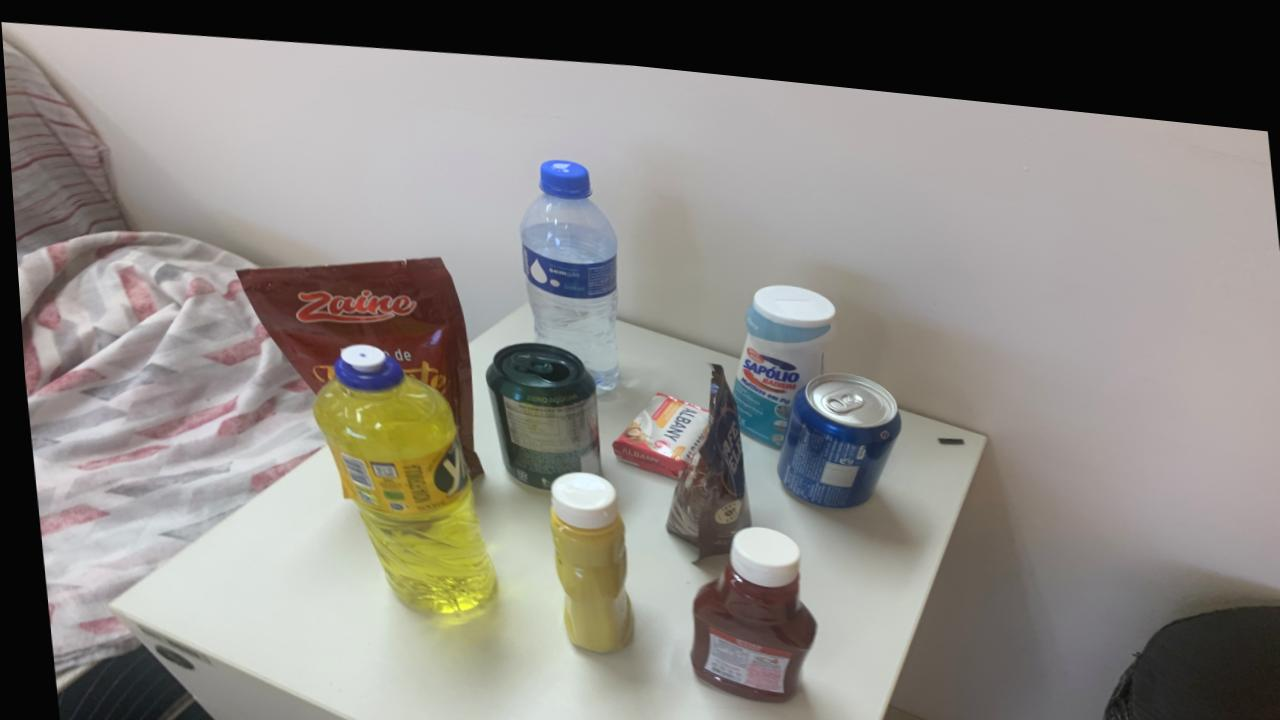Cleaner-Cleanup_Items: (730, 268, 833, 431)
Coffee-Pantry_Items: (660, 349, 744, 545)
Detergent-Cleanup_Items: (308, 338, 486, 602)
Guarana_Can-Drinks: (481, 331, 596, 478)
Ketchup-Pantry_Items: (683, 512, 810, 687)
Mustard-Pantry_Items: (543, 460, 627, 640)
Soap-Cleanup_Items: (608, 380, 705, 464)
Tomato_Sauce-Pantry_Items: (234, 248, 477, 469)
Tonic-Drinks: (771, 355, 897, 490)
Water_Bottle-Drinks: (517, 147, 616, 378)
